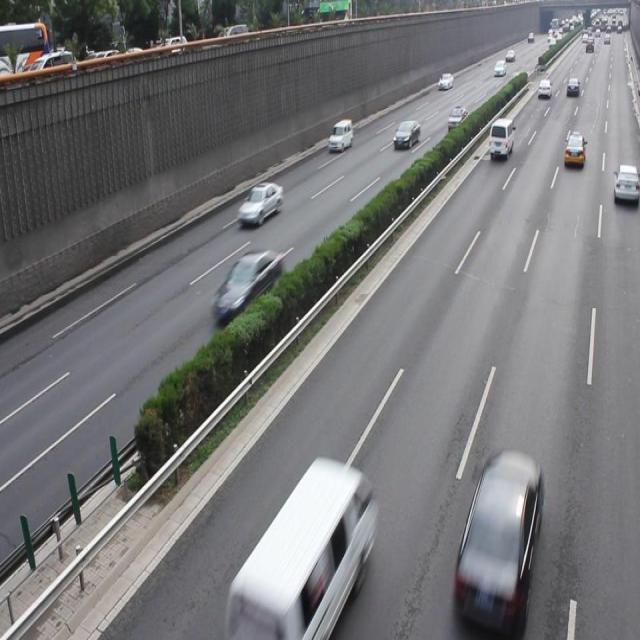car: (455, 454, 541, 608), (213, 248, 283, 321), (237, 180, 282, 224), (612, 164, 640, 202)
truck: (235, 458, 374, 640)
